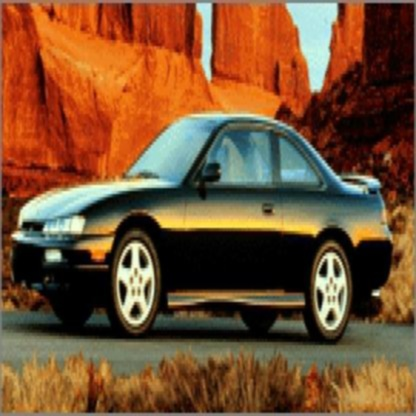Vehicle: (9, 114, 398, 348)
